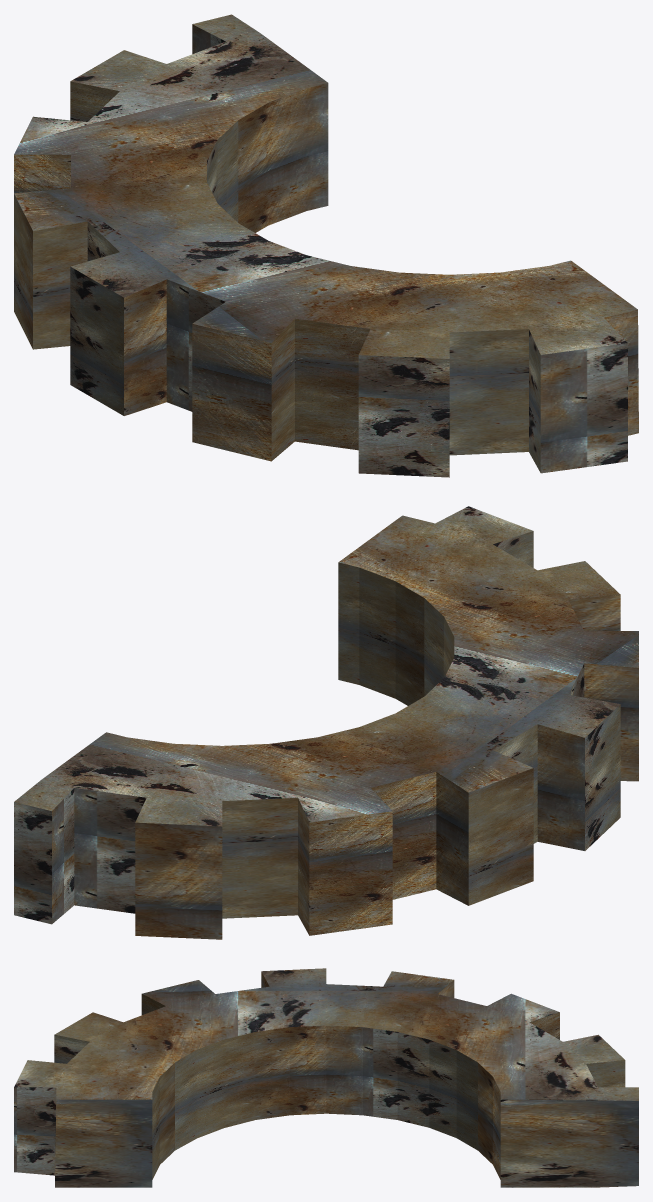
The model's file is gear_L.fbx.
3 views of the same model, one above another, from view 1: azimuth 30°, elevation 25°; view 2: azimuth 150°, elevation 25°; view 3: azimuth 270°, elevation 25° (orthographic). The views are drawn at different scales.
Visible parts, largest first — view 1: polySurface7; view 2: polySurface7; view 3: polySurface7.
Boxes of the visible parts, left/top/right/bottom form: polySurface7: left=14, top=14, right=638, bottom=477; polySurface7: left=14, top=506, right=638, bottom=939; polySurface7: left=14, top=968, right=638, bottom=1187.
Size of the model in its own units: 0.8212 by 0.2542 by 1.63.
Materials: 1 (1 with a texture image).
